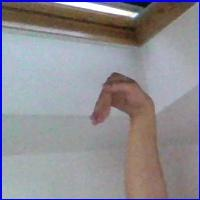del: (89, 69, 152, 133)
